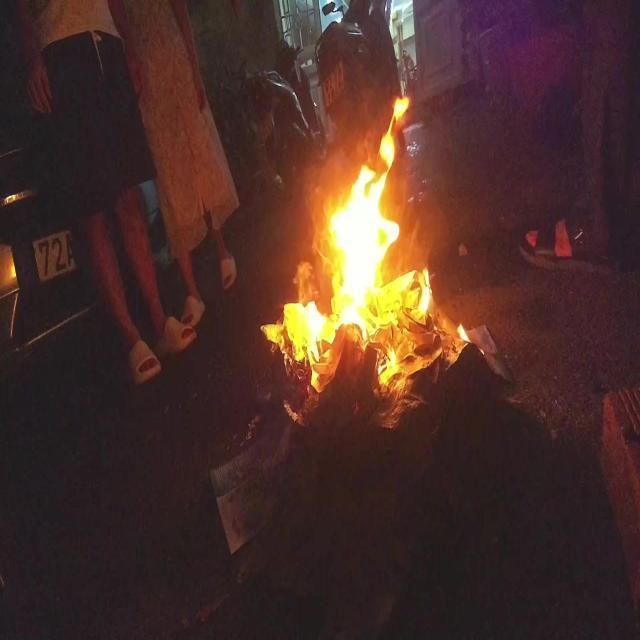Fire: (262, 93, 484, 440)
